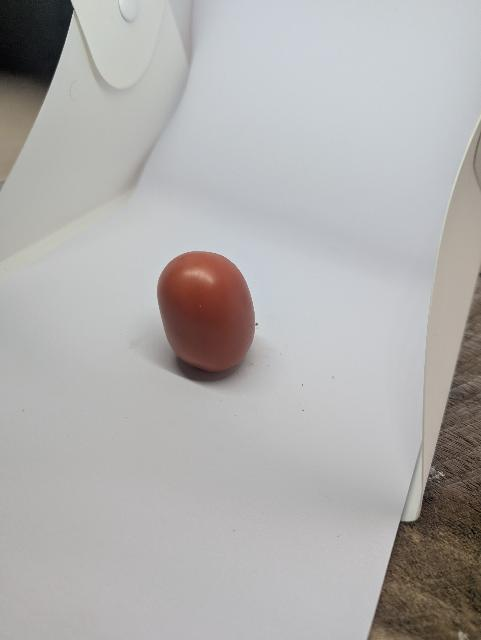red: (150, 247, 265, 392)
